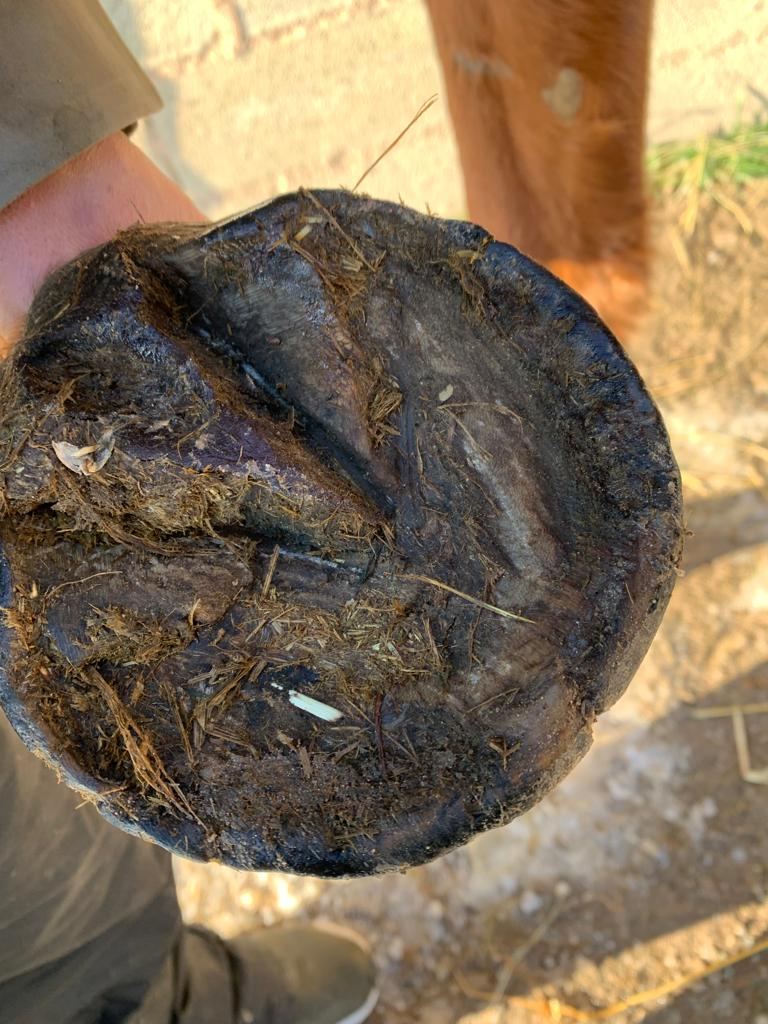horsesole: (1, 187, 685, 884)
